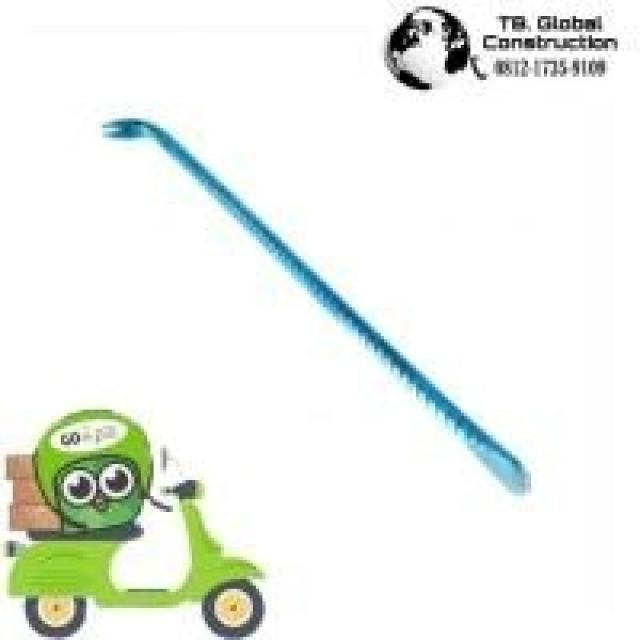Linggis: (105, 115, 537, 494)
